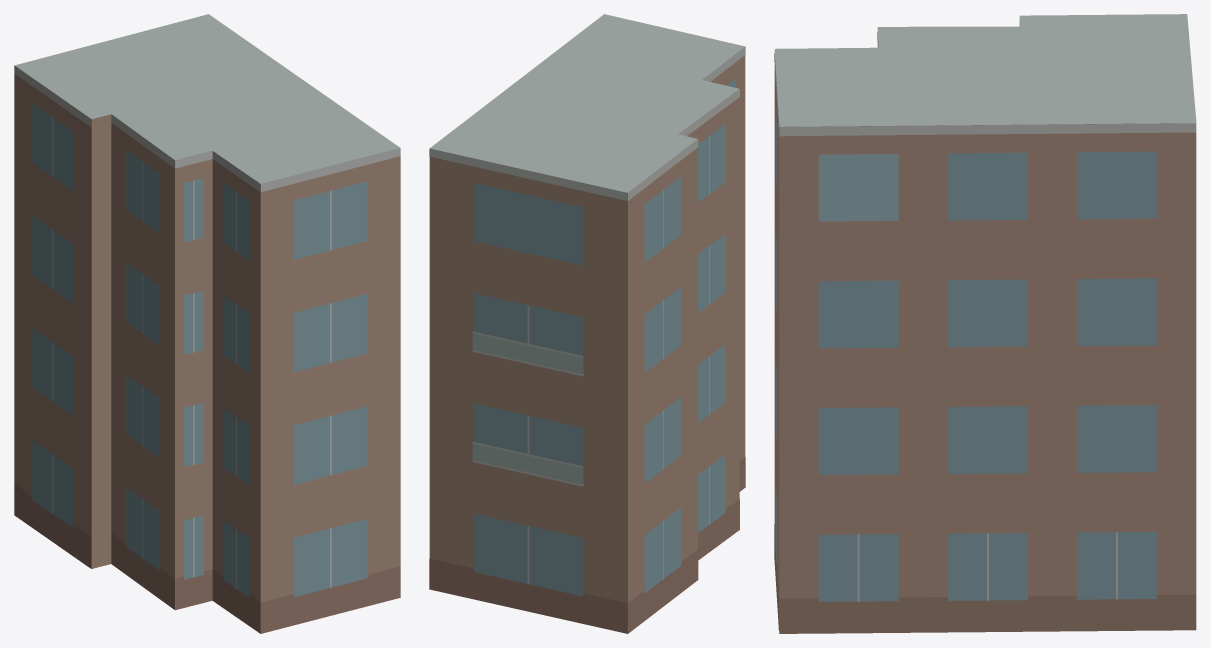
Rendered from survey-upis-32937830.glb.
The picture shows the model from 3 angles, left to right: view 1: azimuth 30°, elevation 25°; view 2: azimuth 150°, elevation 25°; view 3: azimuth 270°, elevation 25°; orthographic projection. The views are drawn at different scales.
Visible parts, largest first — view 1: survey-upis-32937830.tmp; view 2: survey-upis-32937830.tmp; view 3: survey-upis-32937830.tmp.
Part boxes in pixels (x1=…): survey-upis-32937830.tmp: x1=14, y1=14, x2=400, y2=633; survey-upis-32937830.tmp: x1=429, y1=14, x2=745, y2=633; survey-upis-32937830.tmp: x1=774, y1=14, x2=1196, y2=633.
Bounding box in the file's own units: 6.31 × 13.2 × 9.97.
